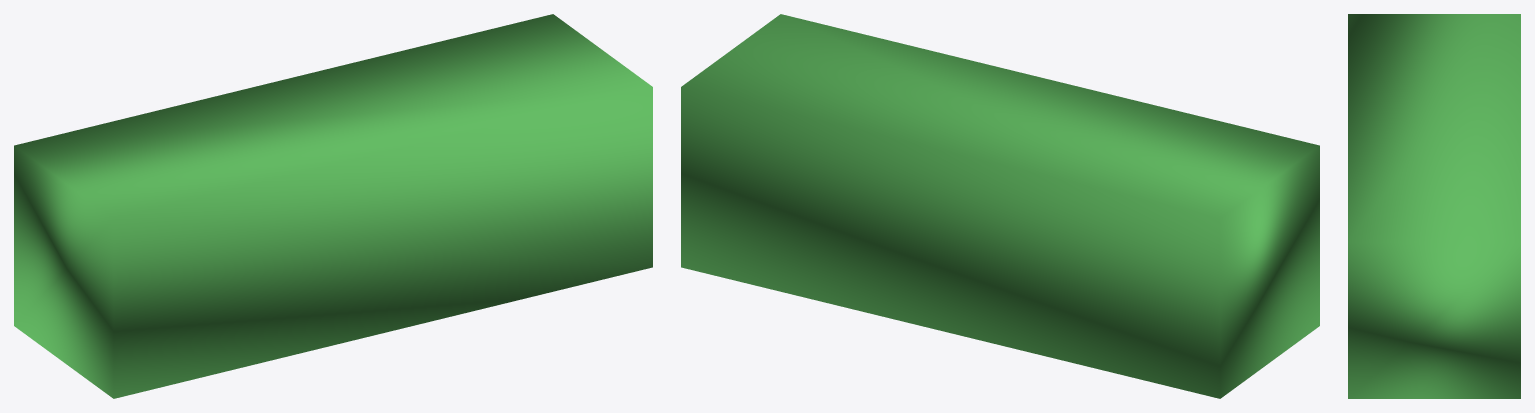
File: expected.gltf
3 renders of one model, left to right at view 1: azimuth 30°, elevation 25°; view 2: azimuth 150°, elevation 25°; view 3: azimuth 270°, elevation 25°, orthographic. The views are drawn at different scales.
Bounding box in the file's own units: 50 × 16 × 16.
